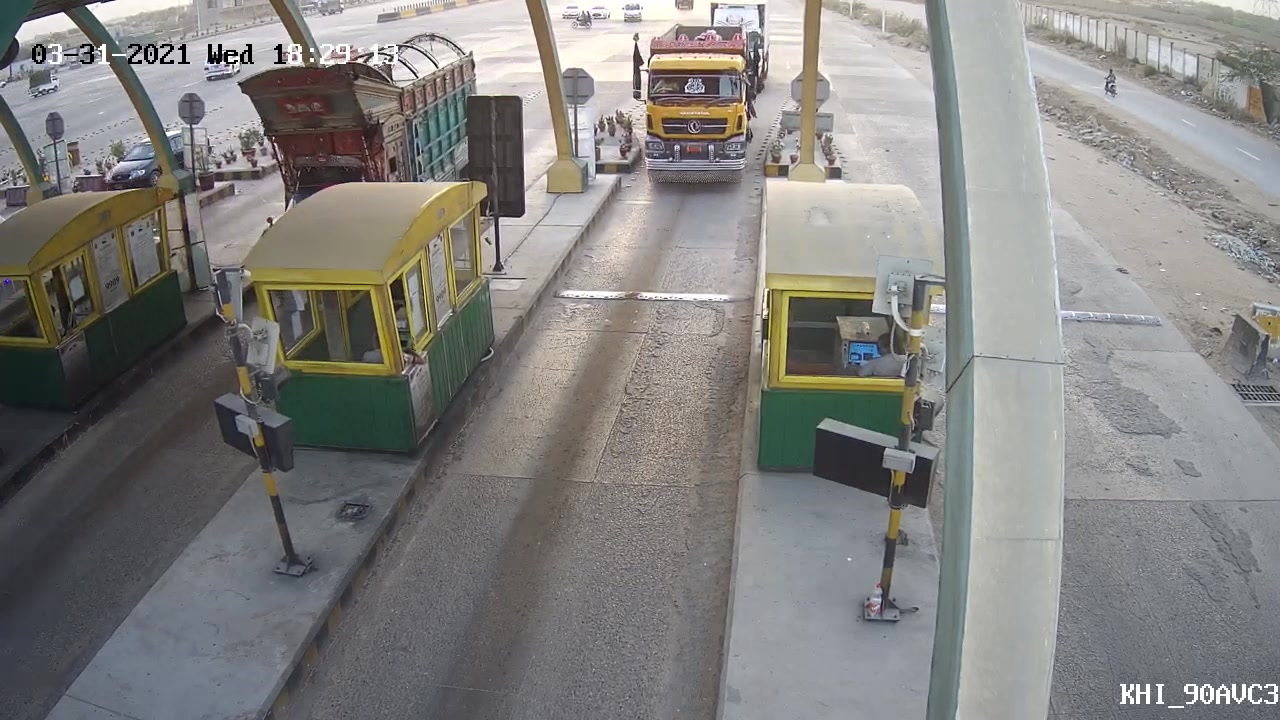F5: (624, 20, 766, 197)
